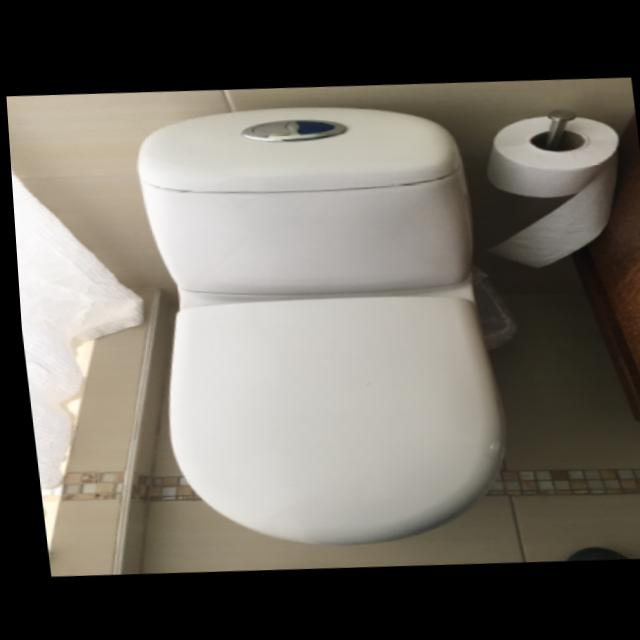toilet: (124, 93, 512, 555)
